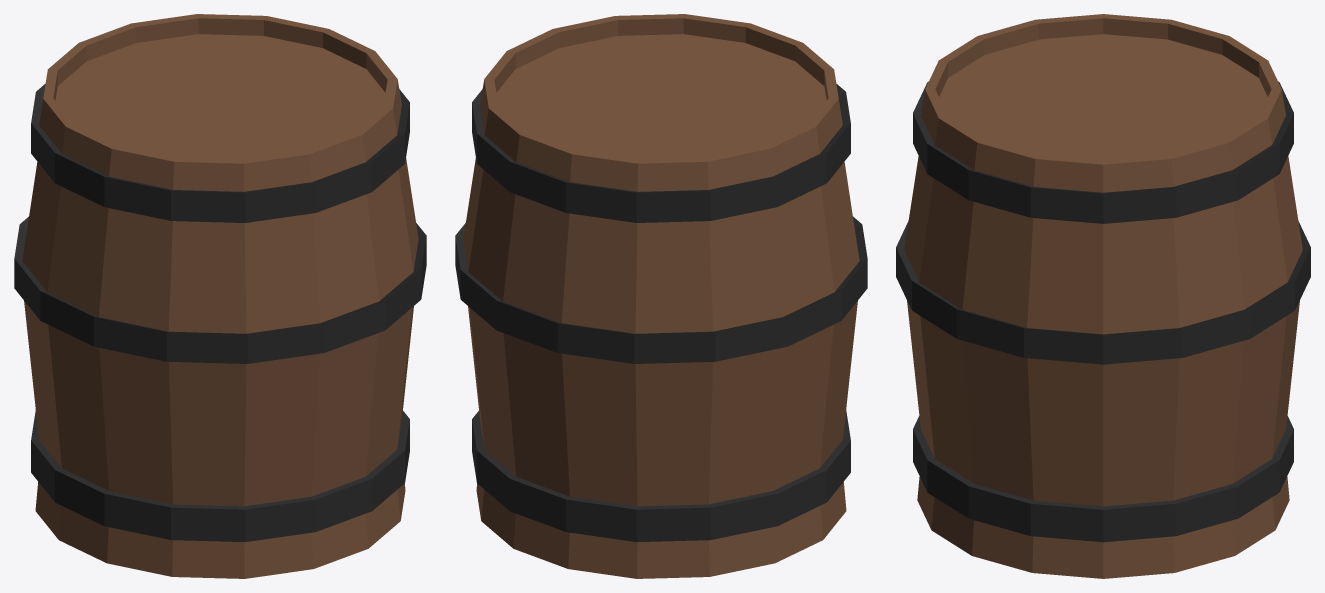
The model's file is Fıçı.fbx.
3 views of the same model, side by side, from view 1: azimuth 30°, elevation 25°; view 2: azimuth 150°, elevation 25°; view 3: azimuth 270°, elevation 25° (orthographic).
Visible parts, largest first — view 1: Cylinder; view 2: Cylinder; view 3: Cylinder.
Part boxes in pixels (box(x1,y1,x2,y2)): Cylinder: box(14, 14, 426, 578); Cylinder: box(455, 14, 867, 578); Cylinder: box(896, 14, 1310, 578).
Bounding box in the file's own units: 0.8913 × 0.9742 × 0.8913.
